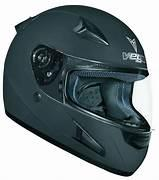Helmet: (2, 1, 159, 178)
